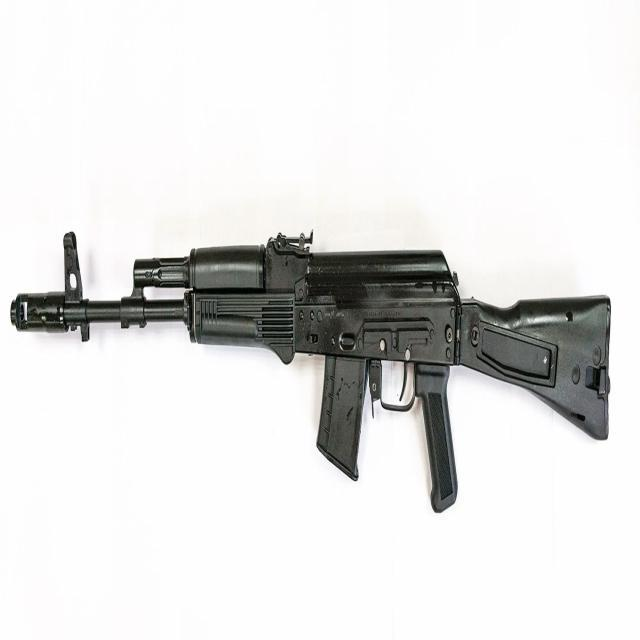weapon: (10, 230, 612, 514)
